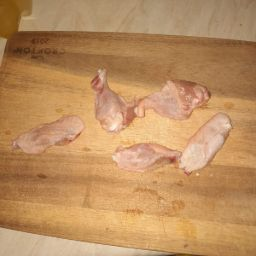Chicken: (75, 62, 141, 137), (160, 112, 237, 175), (7, 110, 88, 166), (130, 76, 225, 123), (109, 137, 180, 180)
